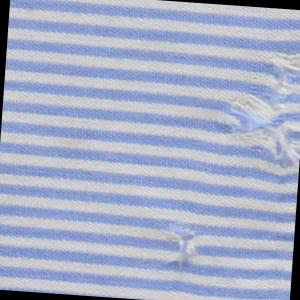Damage: (205, 39, 300, 184), (159, 219, 207, 277)
